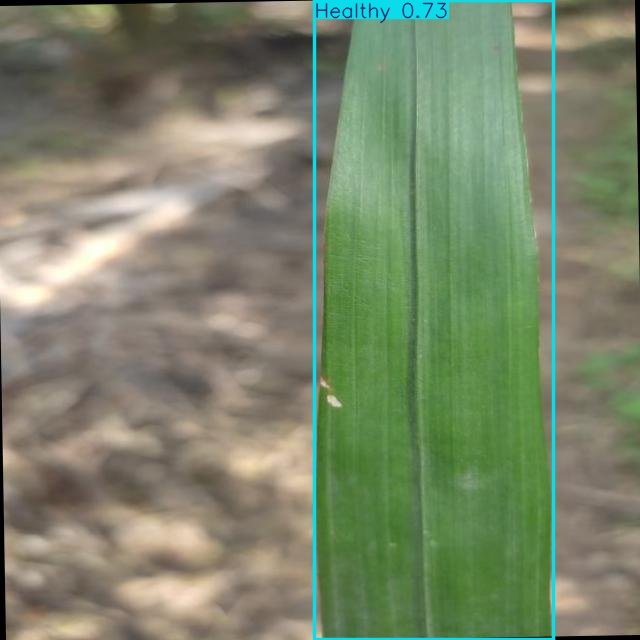Healthy: (314, 0, 553, 640)
